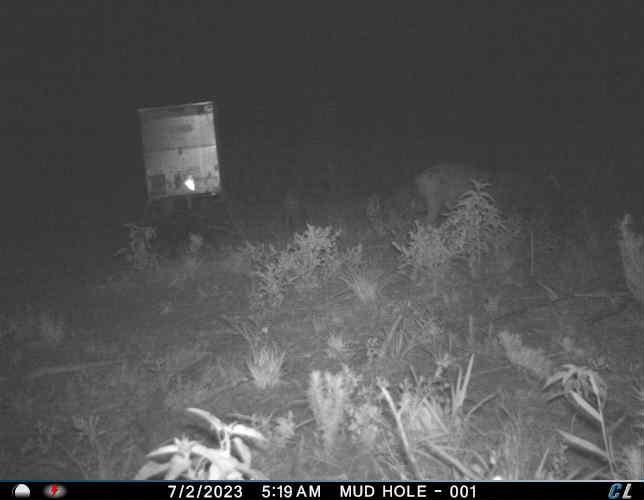Hog: (400, 162, 503, 227)
